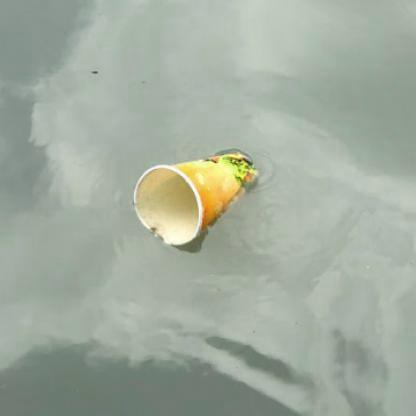Plastic: (130, 146, 260, 250)
